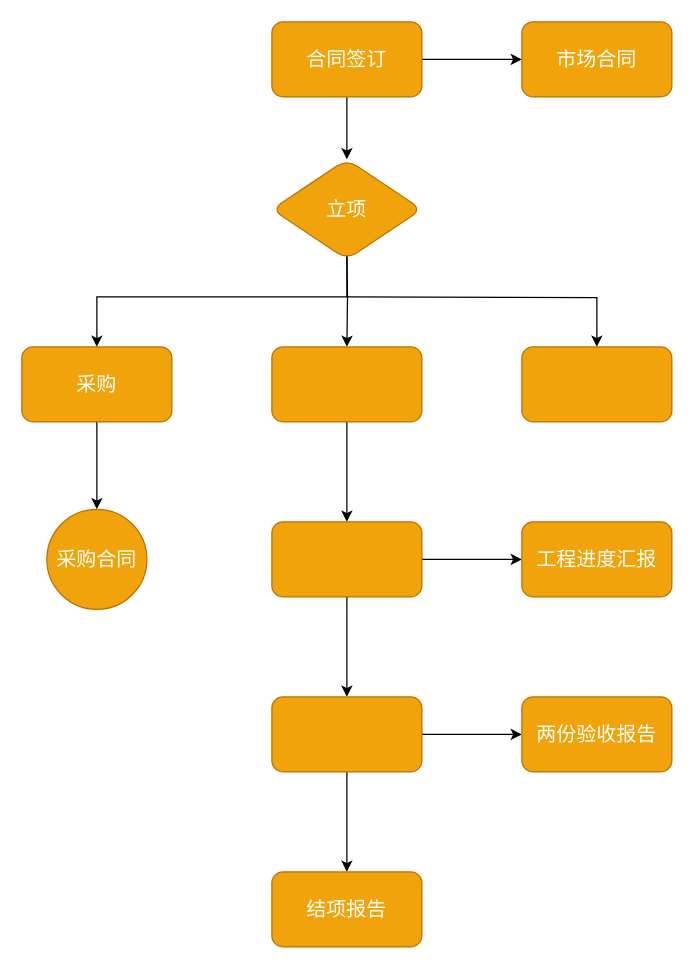
This 694x969 diagram has some shape labels left out. Each missing label, with the centre of its shape:
开工资料: [346,384]
现场施工: [346,559]
立项报告&会议纪要: [596,384]
验收: [346,734]
